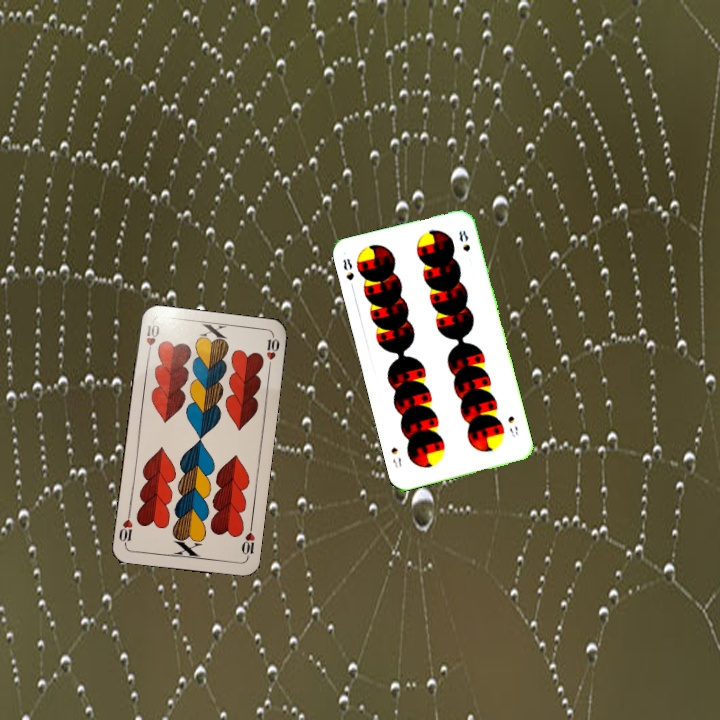H10: (142, 319, 162, 359), (237, 521, 257, 561)
S8: (339, 254, 357, 293), (504, 412, 521, 440)
